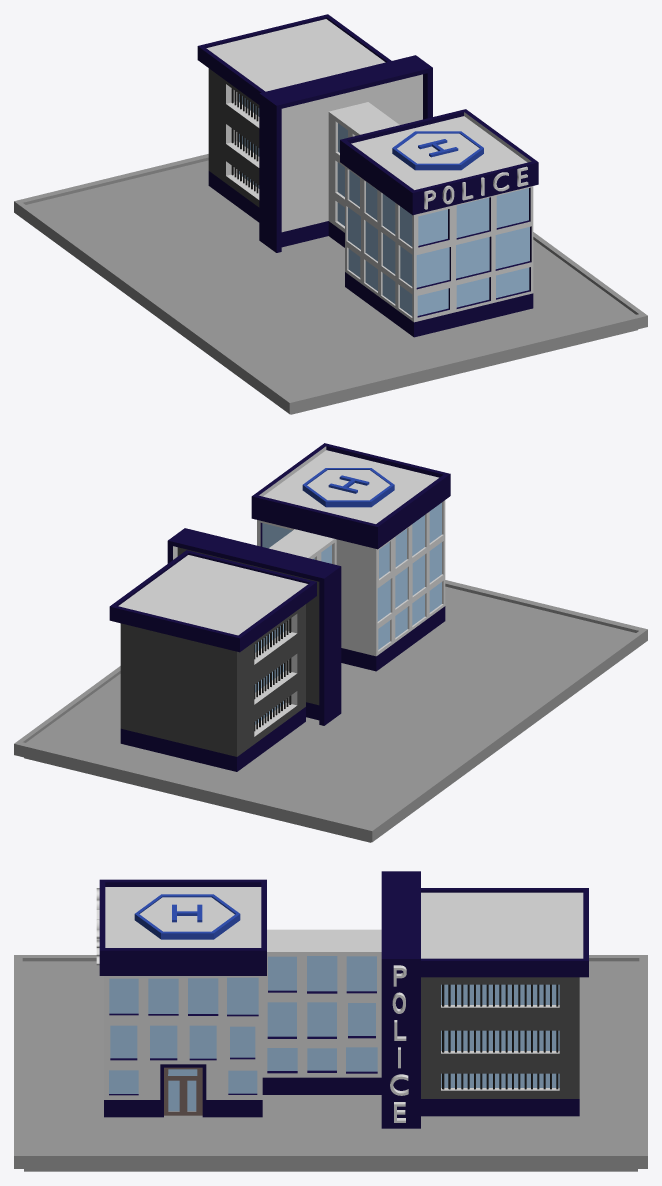
The model's file is policeStation.fbx.
3 renders of one model, top to bottom at view 1: azimuth 30°, elevation 25°; view 2: azimuth 150°, elevation 25°; view 3: azimuth 270°, elevation 25°, orthographic. The views are drawn at different scales.
Visible parts, largest first — view 1: Cube, Cube.001, Circle, Text.001; view 2: Cube, Cube.001, Circle; view 3: Cube, Cube.001, Circle, Cylinder.002, Cylinder, Text, Cylinder.001.
Part boxes in pixels (x1,y1,x2,y2): Cube: (197,14,538,337); Cube.001: (14,154,647,414); Circle: (392,131,483,170); Text.001: (424,166,528,209); Cube: (109,443,450,771); Cube.001: (14,580,647,842); Circle: (302,468,394,507); Cube: (99,871,588,1128); Cube.001: (14,955,647,1171); Circle: (134,894,240,939); Cylinder.002: (442,984,558,1006); Cylinder: (442,1030,558,1052); Text: (390,965,408,1122); Cylinder.001: (442,1073,558,1089).
Size of the model in its own units: 900 by 403 by 1200.
